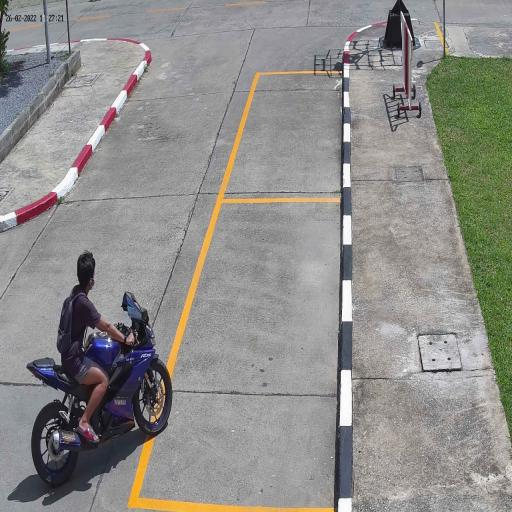motorcycle: (27, 291, 172, 489)
